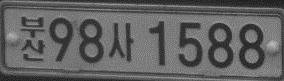1: (145, 20, 173, 66)
5: (177, 21, 202, 67)
8: (237, 21, 265, 70), (207, 21, 234, 69), (77, 17, 104, 63)
9: (48, 16, 74, 62)
부산_V: (20, 15, 46, 62)
사: (108, 21, 134, 63)
